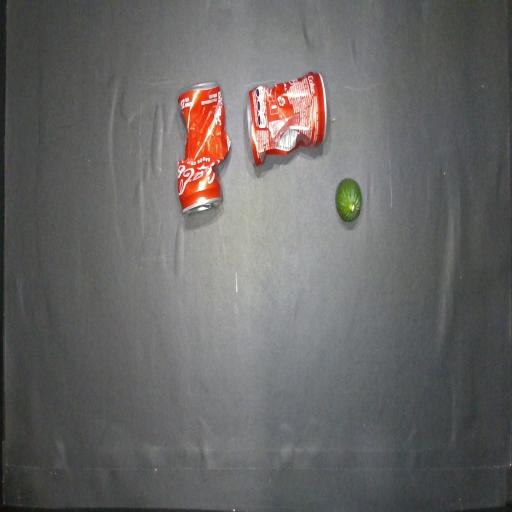higo: (336, 178, 362, 221)
lata_defectuoso: (246, 72, 327, 165), (177, 82, 231, 213)
